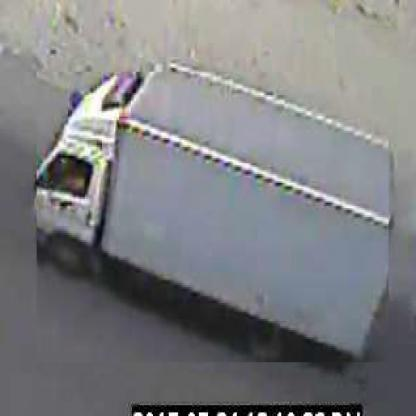truck: (38, 73, 391, 365)
